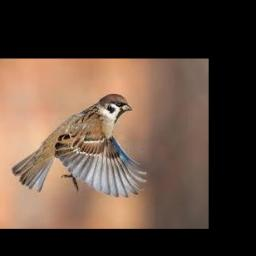Sparrow: (12, 94, 146, 197)
